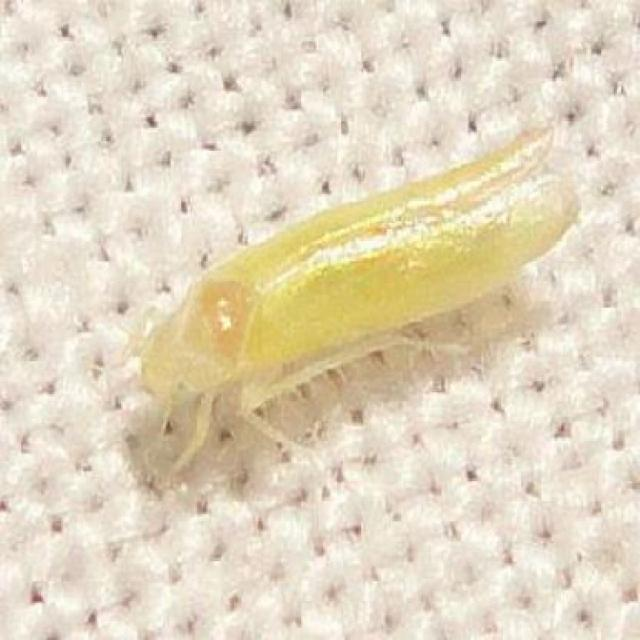green-leafhopper: (141, 120, 577, 473)
